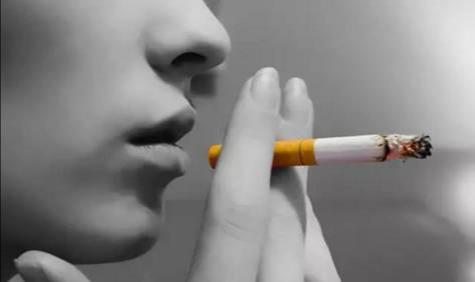Cigarette: (209, 133, 434, 168)
